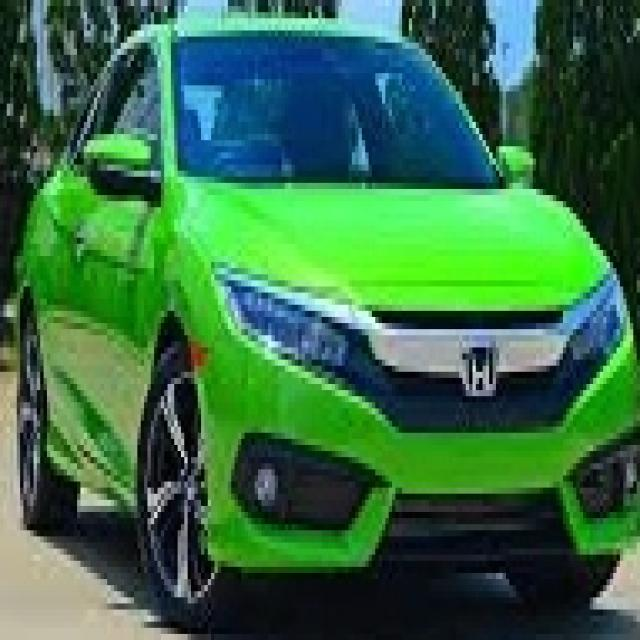green: (17, 1, 633, 640)
